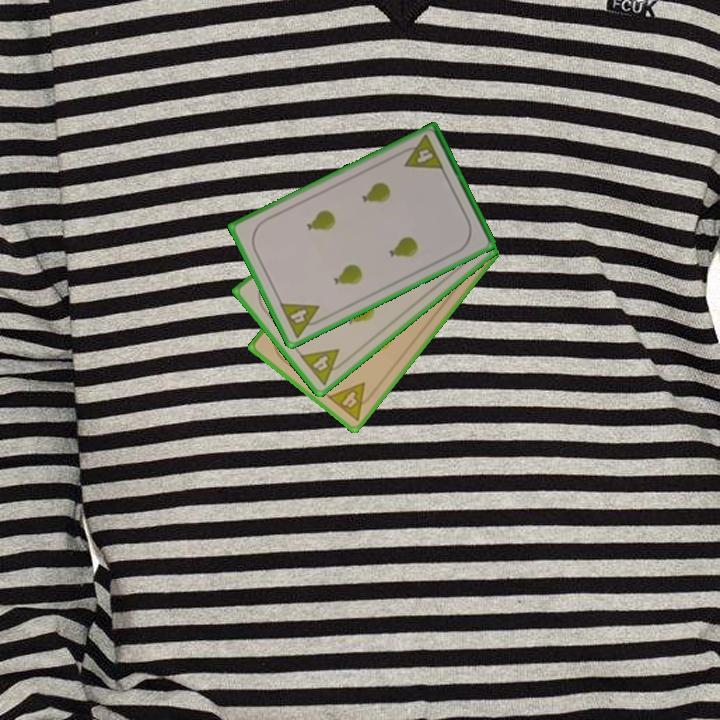4p: (324, 379, 378, 424), (296, 345, 350, 388), (276, 299, 328, 341), (396, 132, 446, 173)
